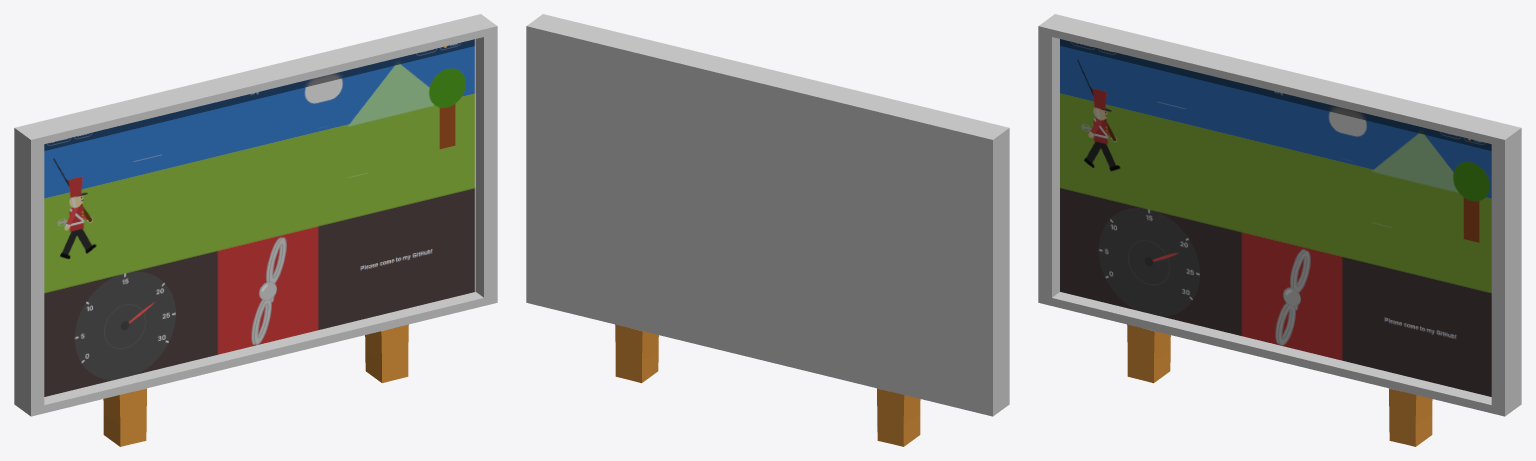
File: frame-gallery2.glb
3 renders of one model, left to right at view 1: azimuth 30°, elevation 25°; view 2: azimuth 150°, elevation 25°; view 3: azimuth 330°, elevation 25°, orthographic.
Parts seen in each view (by area): view 1: gallery2, Cube; view 2: Cube; view 3: gallery2, Cube.
Boxes of the visible parts, <box> form: gallery2: <box>44,39,475,396</box>; Cube: <box>14,14,497,446</box>; Cube: <box>526,14,1009,446</box>; gallery2: <box>1060,39,1491,396</box>; Cube: <box>1038,14,1521,446</box>.
Bounding box in the file's own units: 11.03 × 7.43 × 0.6791.
3 materials, 1 textured.
